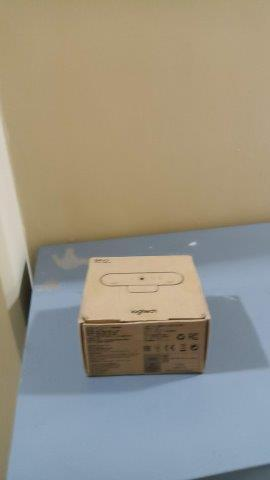kardus: (78, 256, 210, 376)
